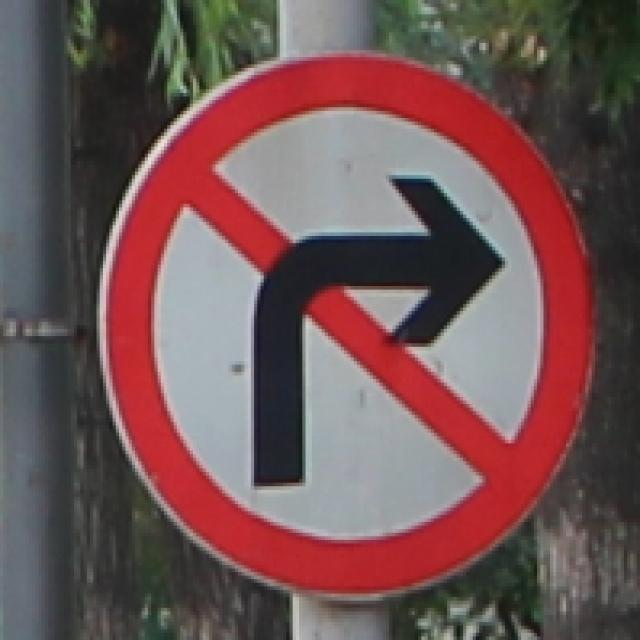Not that Direction: (99, 48, 597, 607)
